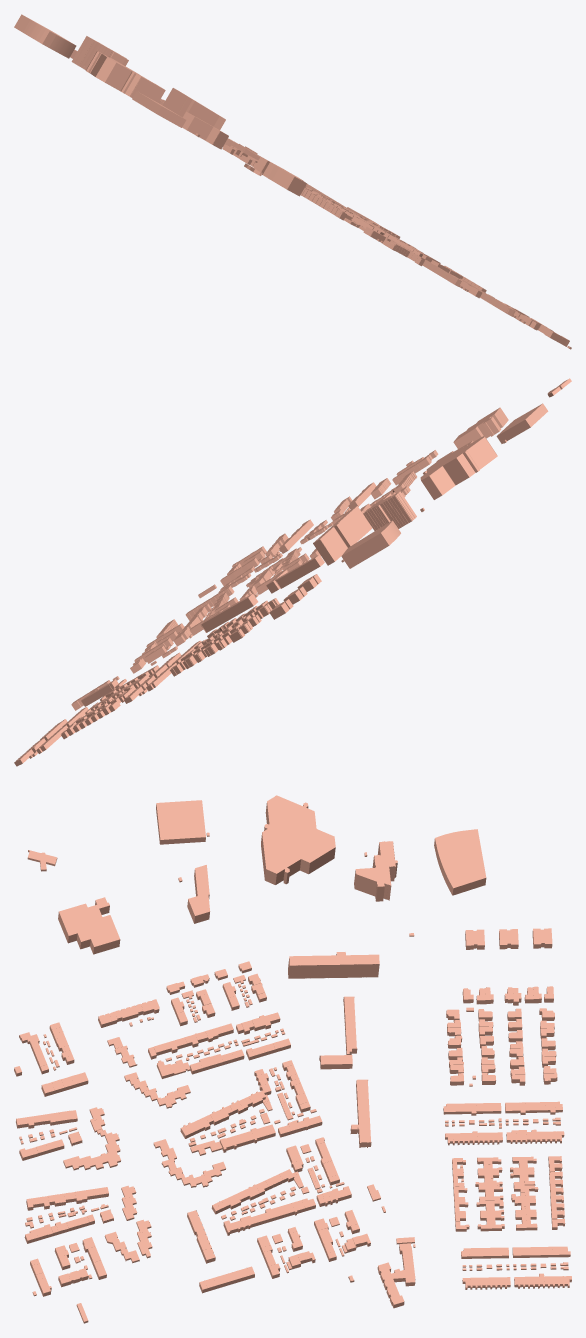
The picture shows the model from 3 angles, top to bottom: view 1: azimuth 30°, elevation 25°; view 2: azimuth 150°, elevation 25°; view 3: azimuth 270°, elevation 25°; orthographic projection. The views are drawn at different scales.
Bounding box in the file's own units: 516 × 403 × 608.
